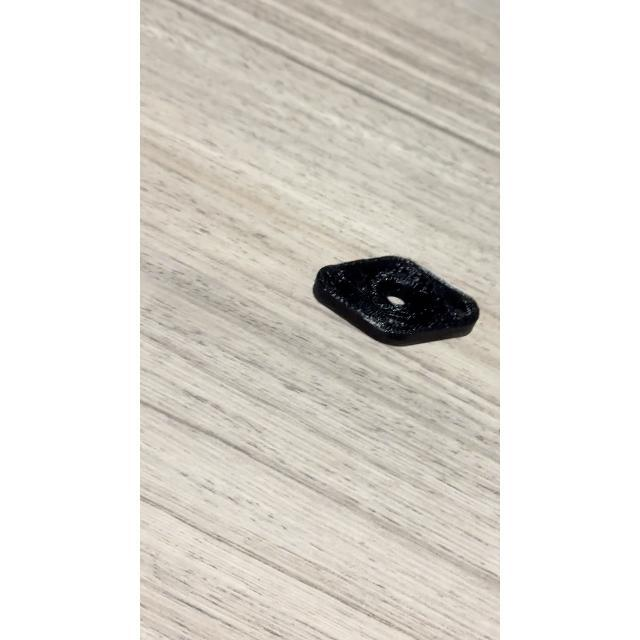Pieza2: (305, 252, 495, 362)
